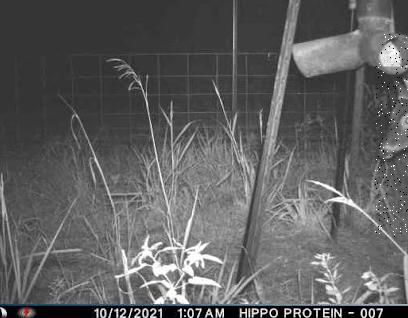Deer: (375, 34, 408, 237)
